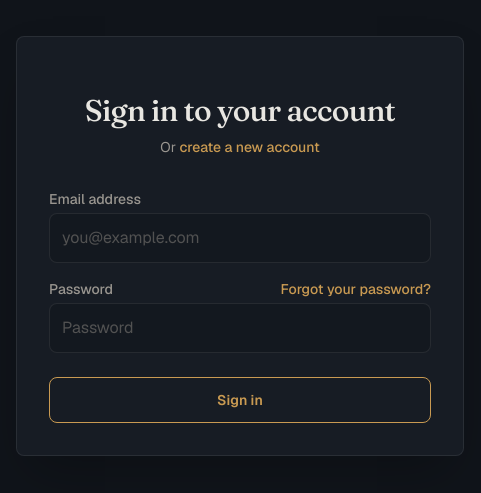
LoginPage › shows validation error on invalid email
Enter invalid email
Step 1. Type "invalid-email" into the field labelled "Email address" → (240, 238), box [49,213,431,263]
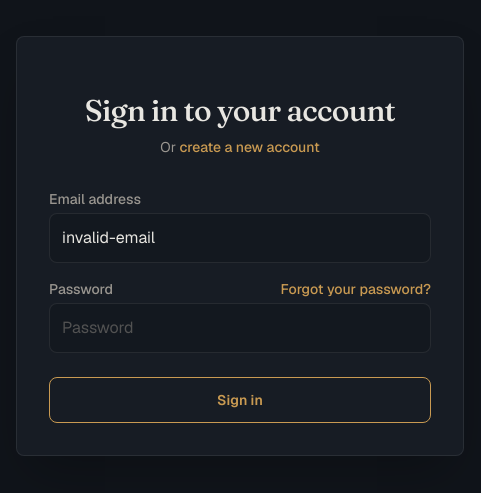
Step 2. Click the button "Sign in" → (240, 400), box [49,377,431,423]
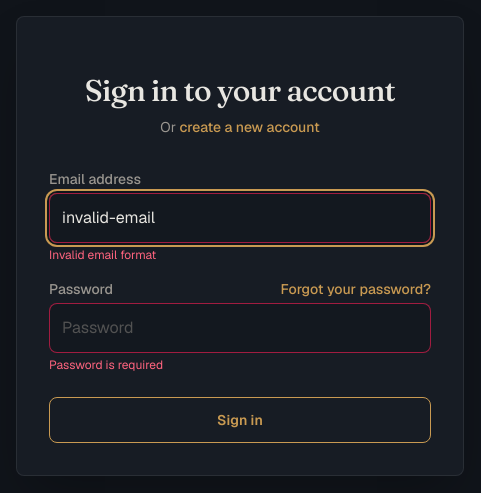
Expected: the text "Invalid email format" is shown, [49,247,156,263]
